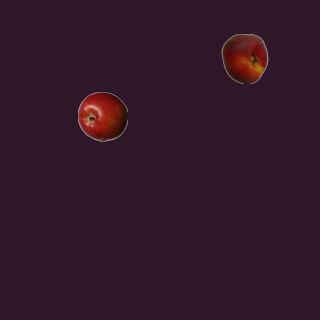Apple Braeburn: (77, 91, 127, 141)
Nectarine Flat: (219, 33, 269, 83)
